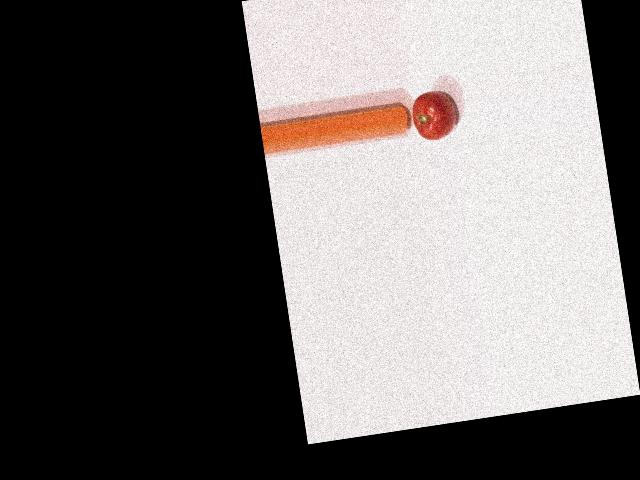tomato: (410, 89, 458, 143)
